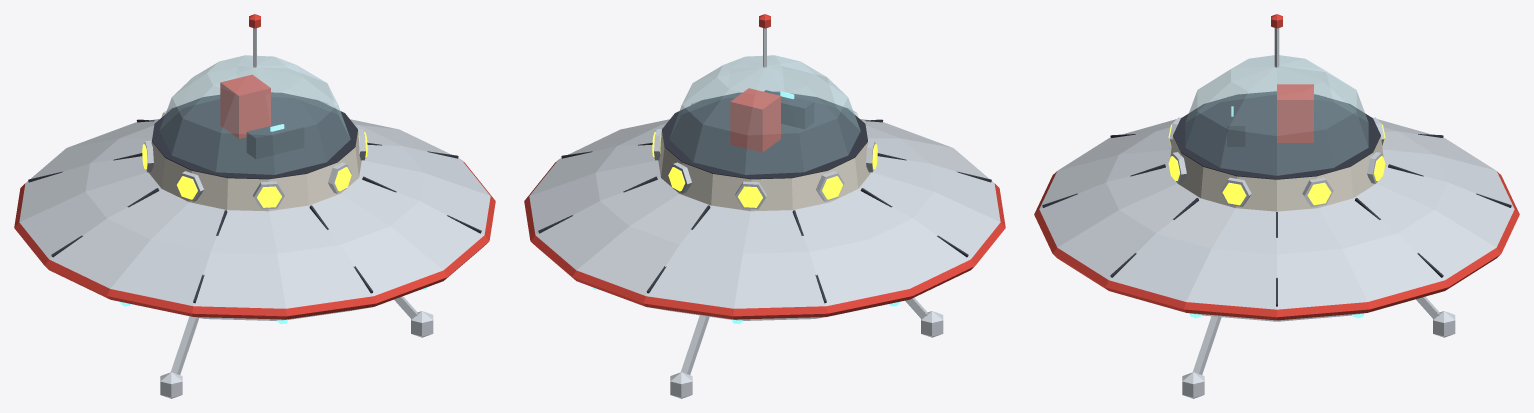
Rendered from Ship_Saucer_Classic.fbx.
3 renders of one model, left to right at view 1: azimuth 30°, elevation 25°; view 2: azimuth 150°, elevation 25°; view 3: azimuth 270°, elevation 25°, orthographic.
Parts seen in each view (by area): view 1: Ship_Saucer_Classic_Body, Ship_Saucer_Classic_Dome, Ship_Saucer_Classic_Landing_Gear; view 2: Ship_Saucer_Classic_Body, Ship_Saucer_Classic_Dome, Ship_Saucer_Classic_Landing_Gear; view 3: Ship_Saucer_Classic_Body, Ship_Saucer_Classic_Dome, Ship_Saucer_Classic_Landing_Gear.
Boxes of the visible parts, x1,y1,x2,y2 form: Ship_Saucer_Classic_Body: (14,74,495,323); Ship_Saucer_Classic_Dome: (159,14,350,174); Ship_Saucer_Classic_Landing_Gear: (160,296,433,398); Ship_Saucer_Classic_Body: (524,88,1005,323); Ship_Saucer_Classic_Dome: (669,14,860,174); Ship_Saucer_Classic_Landing_Gear: (670,297,943,398); Ship_Saucer_Classic_Body: (1034,84,1519,321); Ship_Saucer_Classic_Dome: (1185,14,1368,175); Ship_Saucer_Classic_Landing_Gear: (1182,296,1455,398).
Size of the model in its own units: 6.54 by 4.81 by 6.54.
